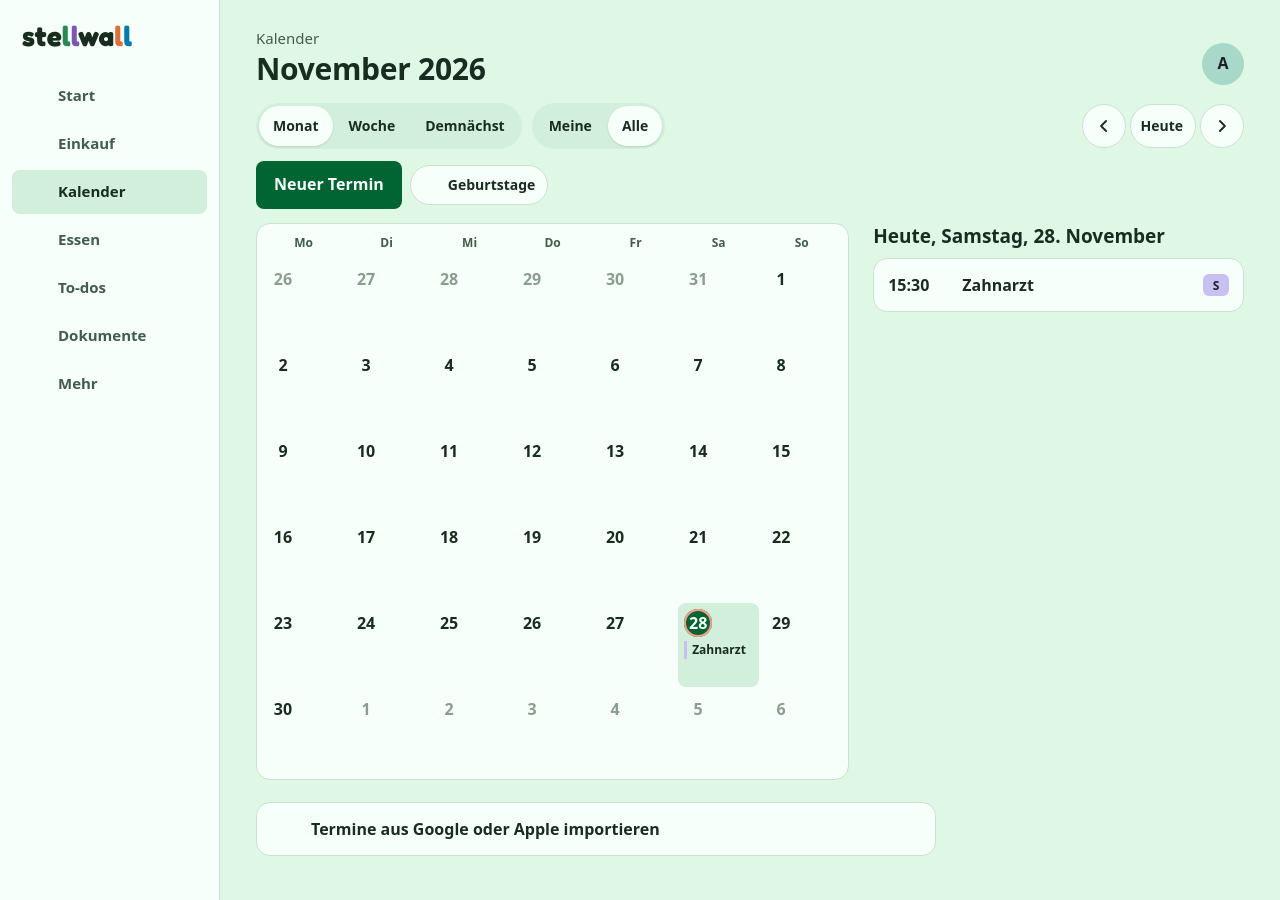
Test case: calendar review fixes › a change that only fits the whole series does not offer just this one
Click the button "15:30 Zahnarzt S" at (909, 285), box [874,259,1243,311]
(page scrolled)
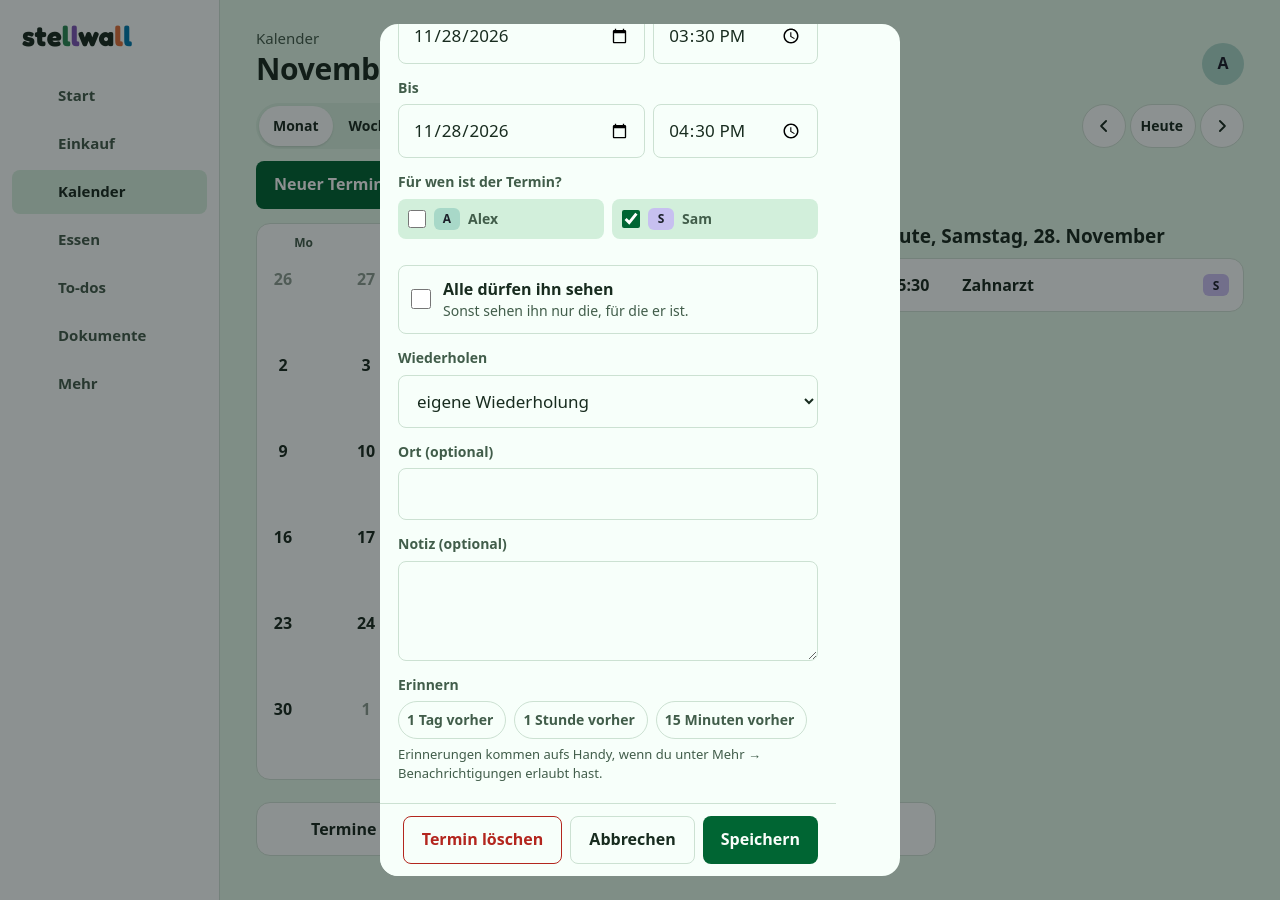
Type "Karte mitnehmen" into the text box labelled "Notiz (optional)" at (608, 611), box [398,561,818,661]
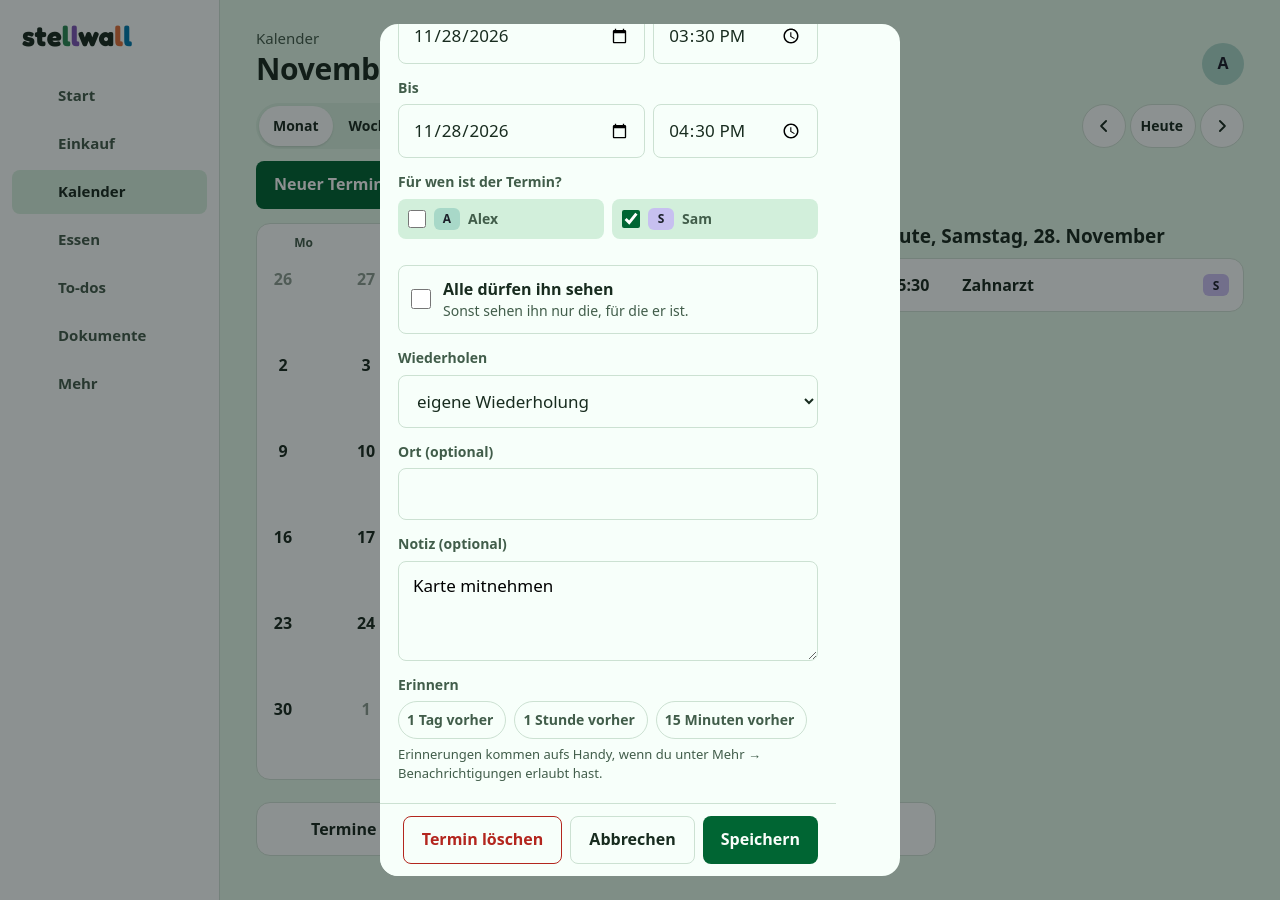
Click the button "Speichern" at (760, 840), box [703,816,818,864]
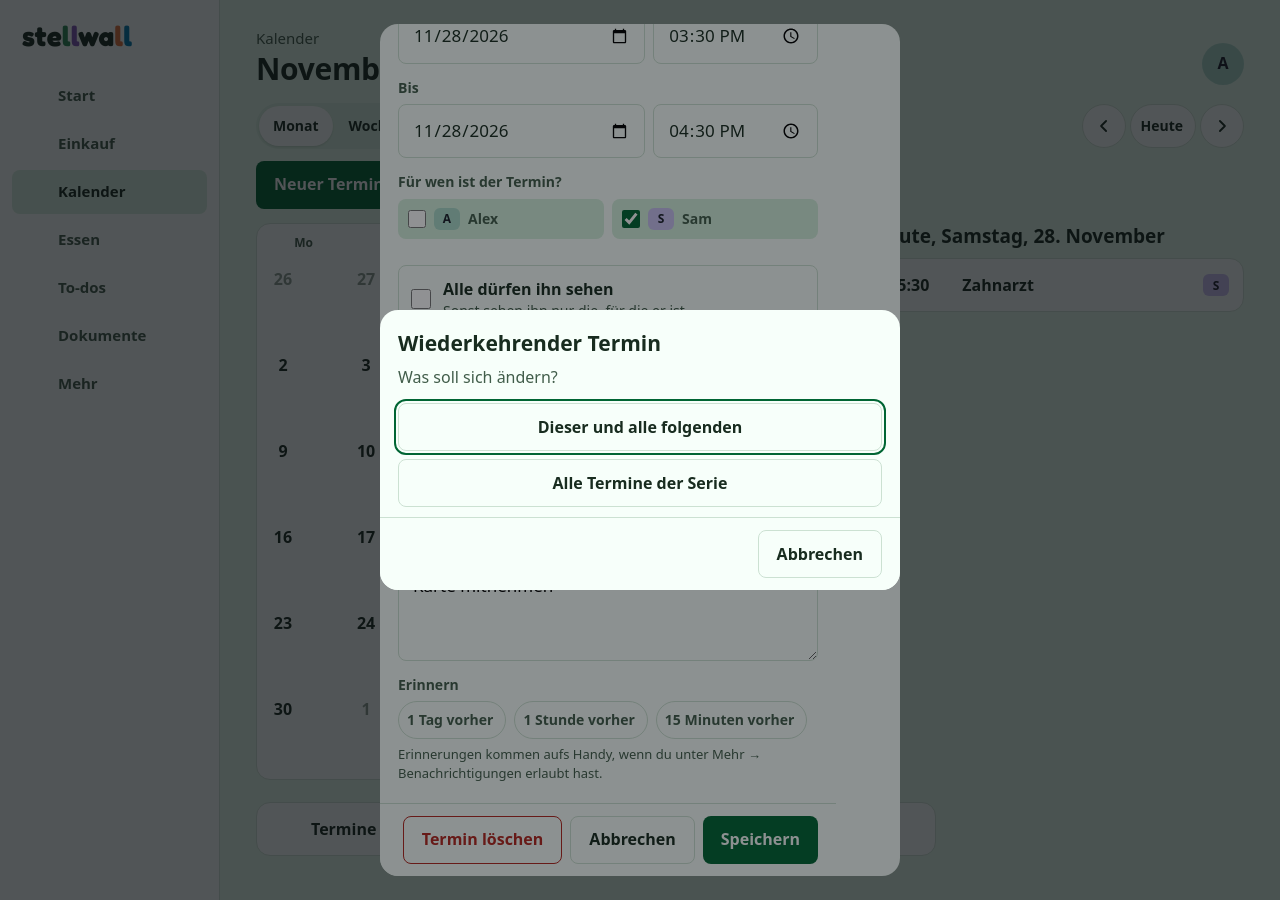
Expected: the button "Dieser und alle folgenden" is shown, [398,403,882,451]
